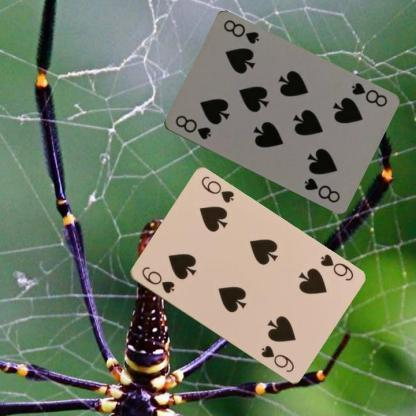6s: (138, 264, 176, 296), (317, 252, 355, 283)
8s: (172, 113, 212, 141), (348, 80, 388, 108)
